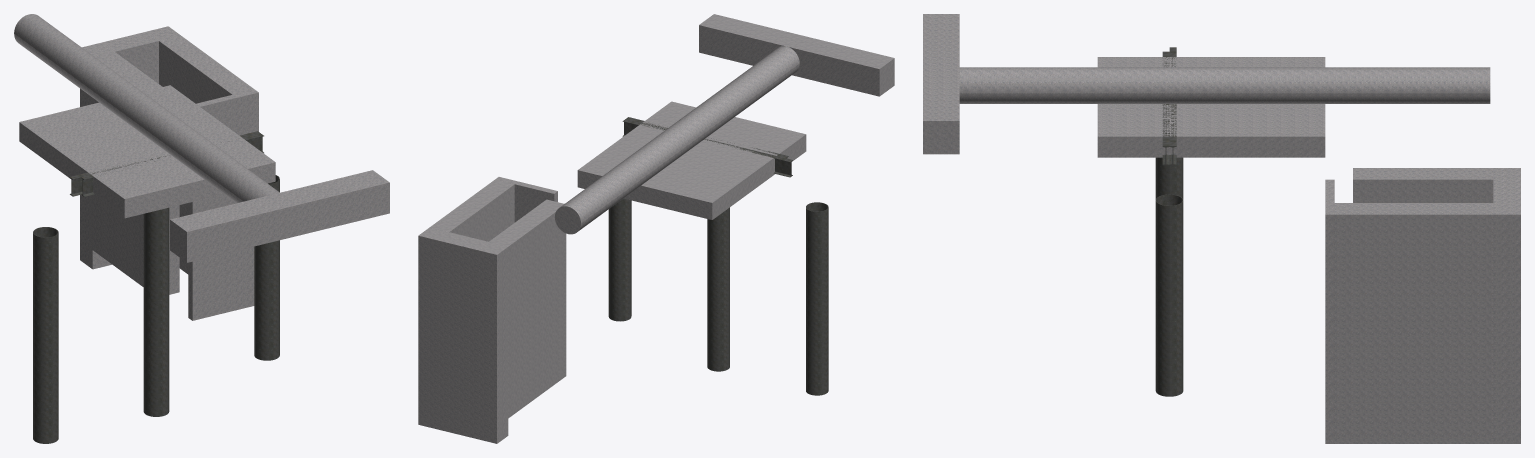
The picture shows the model from 3 angles, left to right: view 1: azimuth 30°, elevation 25°; view 2: azimuth 150°, elevation 25°; view 3: azimuth 270°, elevation 25°; orthographic projection. The views are drawn at different scales.
Parts seen in each view (by area): view 1: 0_0_2_2_2_0_1; view 2: 0_0_2_2_2_0_1; view 3: 0_0_2_2_2_0_1.
Boxes of the visible parts, box(x1,y1,x2,y2) form: 0_0_2_2_2_0_1: box(14, 14, 389, 443); 0_0_2_2_2_0_1: box(418, 14, 894, 443); 0_0_2_2_2_0_1: box(923, 14, 1520, 443).
Bounding box in the file's own units: 8.04 × 7.35 × 13.
12 materials, 12 textured.
